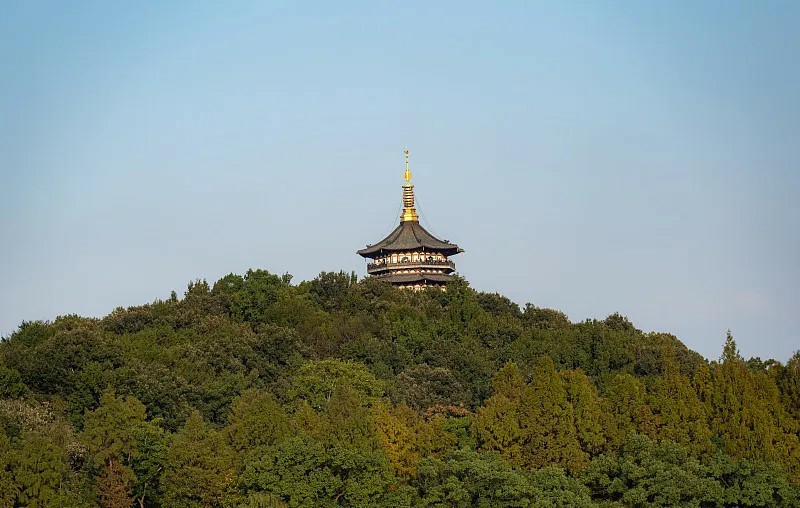Leifeng: (355, 146, 465, 293)
